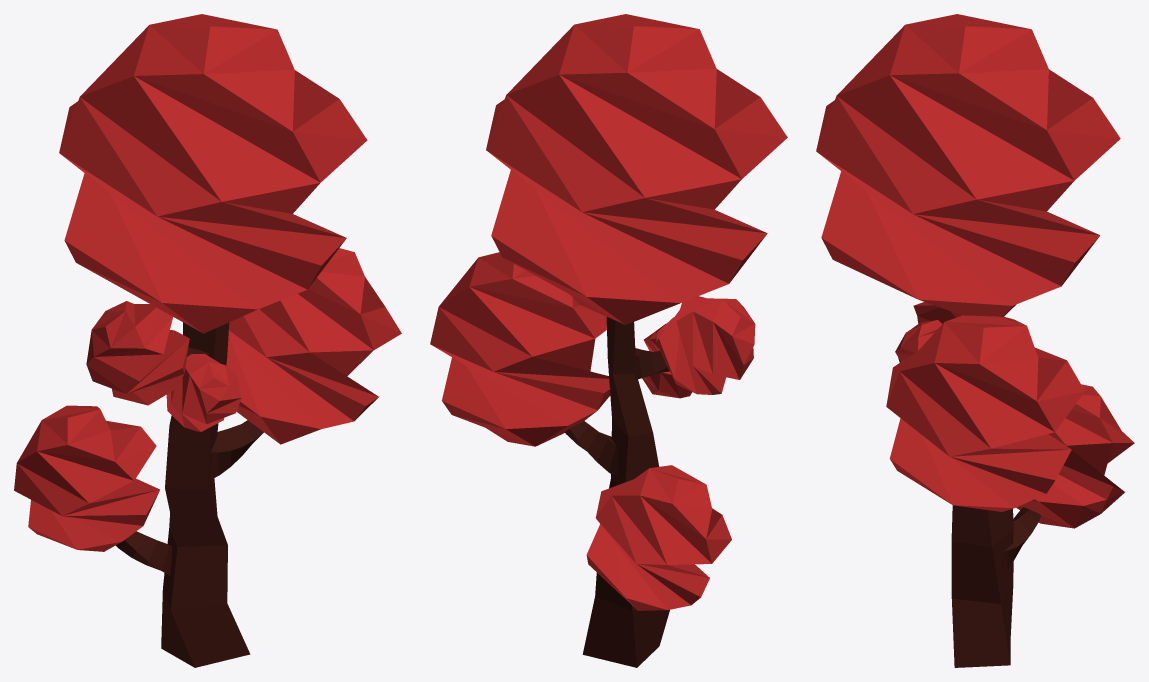
The model's file is Tree3-1.FBX.
3 renders of one model, left to right at view 1: azimuth 30°, elevation 25°; view 2: azimuth 150°, elevation 25°; view 3: azimuth 270°, elevation 25°, orthographic. The views are drawn at different scales.
Parts seen in each view (by area): view 1: Tree3-1; view 2: Tree3-1; view 3: Tree3-1.
Part boxes in pixels (box(x1,y1,x2,y2)): Tree3-1: box(14, 14, 401, 667); Tree3-1: box(430, 14, 787, 667); Tree3-1: box(816, 14, 1134, 667).
Size of the model in its own units: 27.35 by 50.67 by 23.43.
